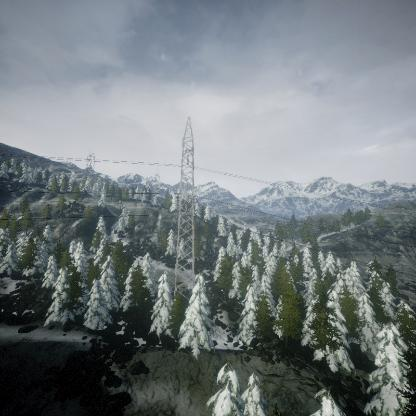tower: (175, 116, 199, 297)
